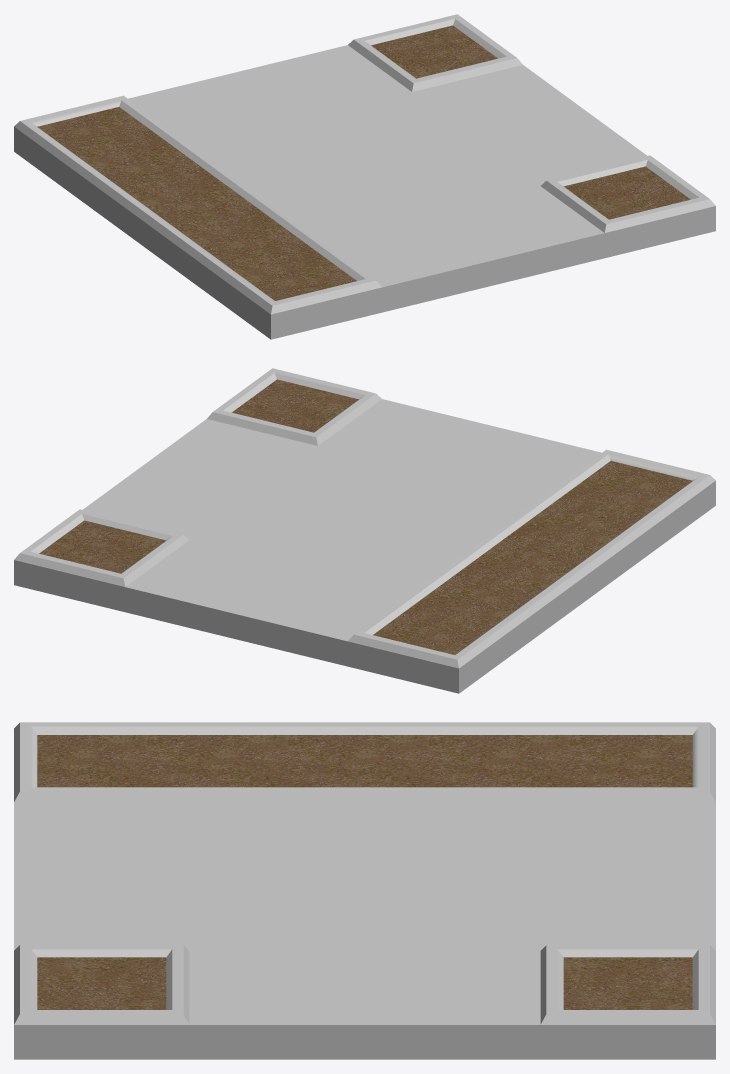
File: Path_D.fbx
3 views of the same model, one above another, from view 1: azimuth 30°, elevation 25°; view 2: azimuth 150°, elevation 25°; view 3: azimuth 270°, elevation 25° (orthographic). The views are drawn at different scales.
Visible parts, largest first — view 1: Path_D; view 2: Path_D; view 3: Path_D.
Part boxes in pixels (x1,y1,x2,y2): Path_D: (14,14,715,339); Path_D: (14,368,715,693); Path_D: (14,722,715,1059).
Bounding box in the file's own units: 1000 × 67.41 × 1000.
